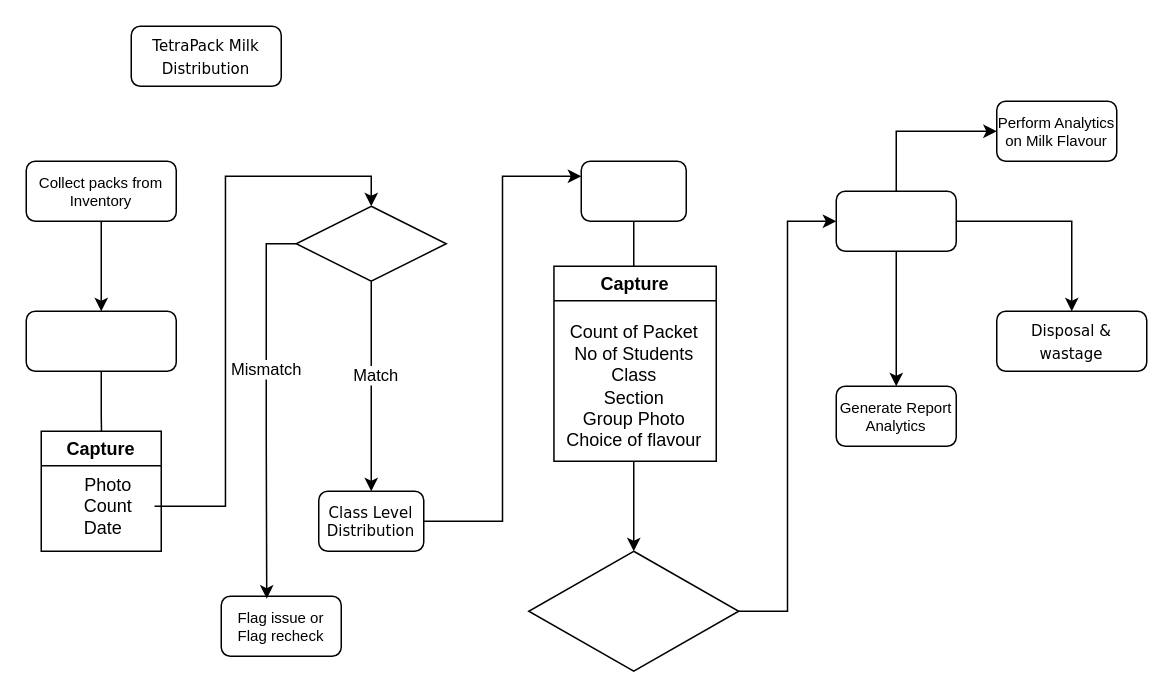
This 1173x698 diagram has some shape labels left out. Here are the shapes that lost their labels. From the top down, the centre of each, then its label:
the point at 633,190: Distribute to Students
the point at 895,220: Upload Distribution Data
the point at 370,243: Verify By Vision AI
the point at 100,340: Deliver to Schools
the point at 633,610: Verify By Vision AI Check Headcount Verification
